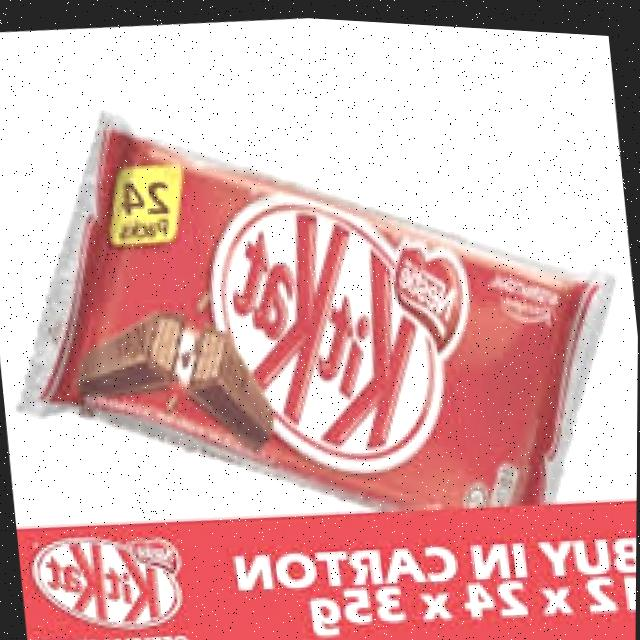kitkat: (0, 48, 637, 558)
